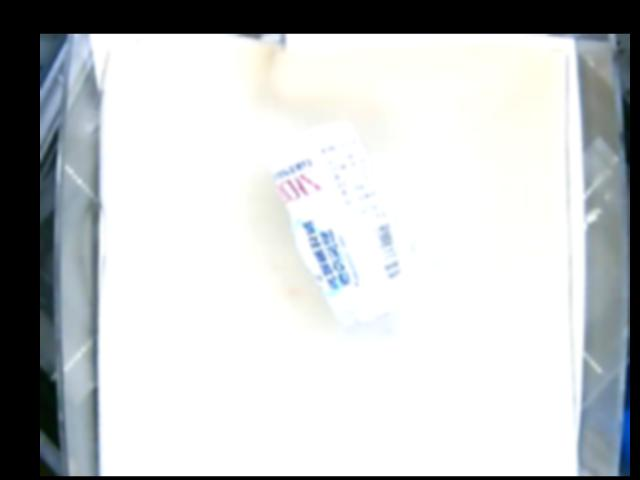Bottle: (268, 117, 412, 326)
